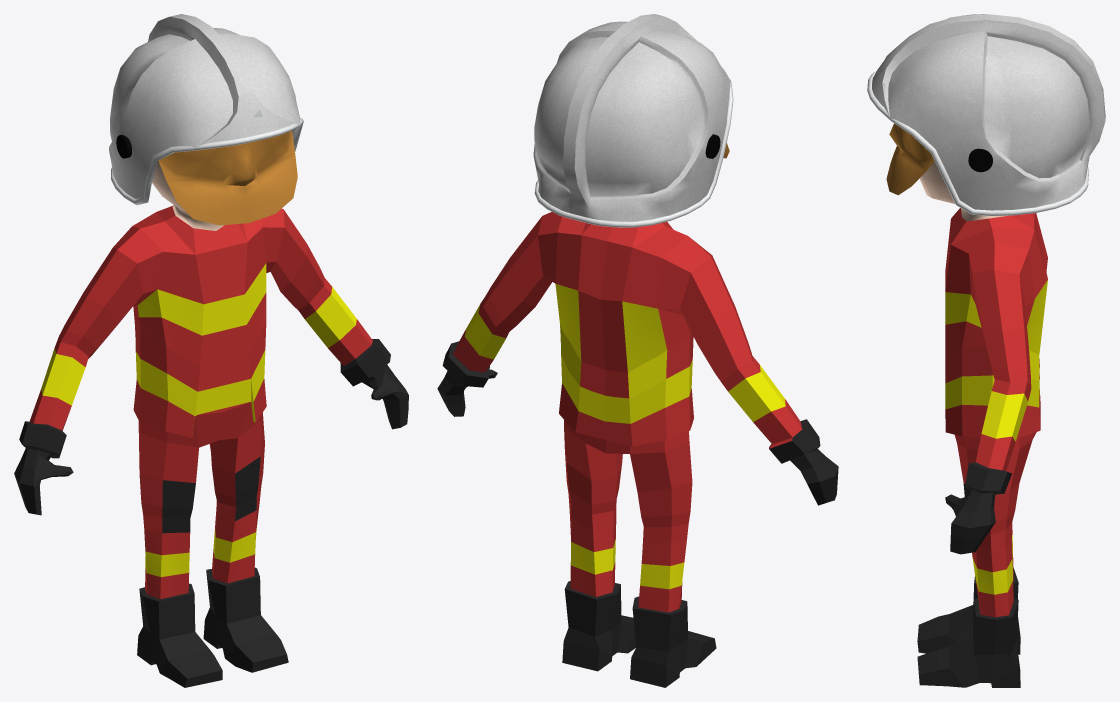
File: Pompier.fbx
3 views of the same model, side by side, from view 1: azimuth 30°, elevation 25°; view 2: azimuth 150°, elevation 25°; view 3: azimuth 270°, elevation 25° (orthographic). The views are drawn at different scales.
Visible parts, largest first — view 1: Character, group_16, group_15, group_16.001; view 2: Character, group_16, group_16.001; view 3: Character, group_16, group_15, group_16.001, group_2.001.
Part boxes in pixels (x1,y1,x2,y2): Character: (14,161,408,687); group_16: (109,14,299,198); group_15: (158,130,297,225); group_16.001: (111,118,303,205); Character: (437,212,838,687); group_16: (533,14,730,221); group_16.001: (534,66,733,227); Character: (917,161,1047,687); group_16: (872,14,1105,210); group_15: (886,123,934,195); group_16.001: (867,71,1089,215); group_2.001: (968,148,992,172).
Size of the model in its own units: 120 by 186 by 62.13.
